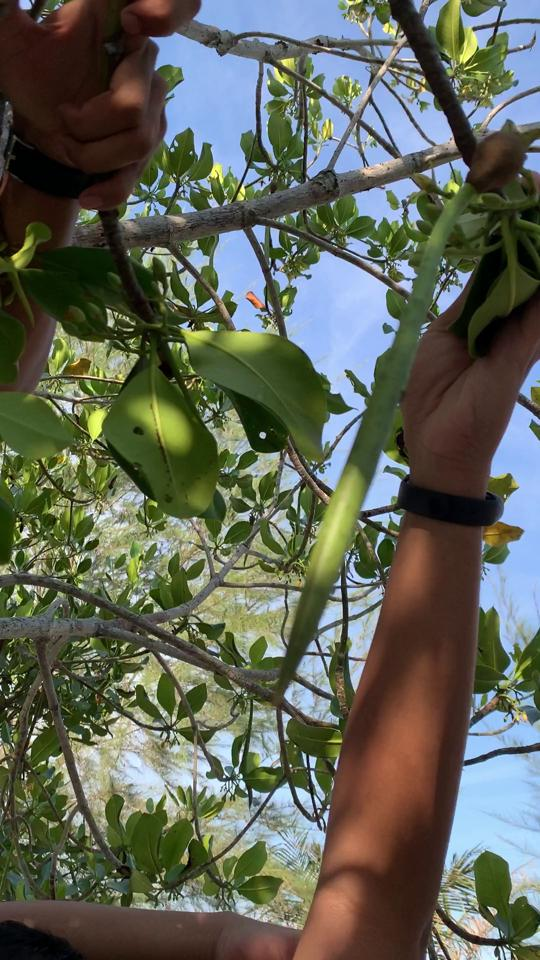mentah: (256, 114, 539, 718)
